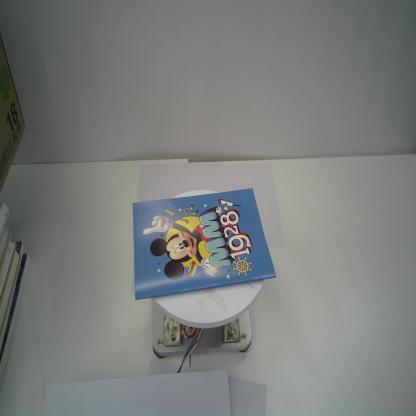Stationery: (132, 187, 277, 302)
